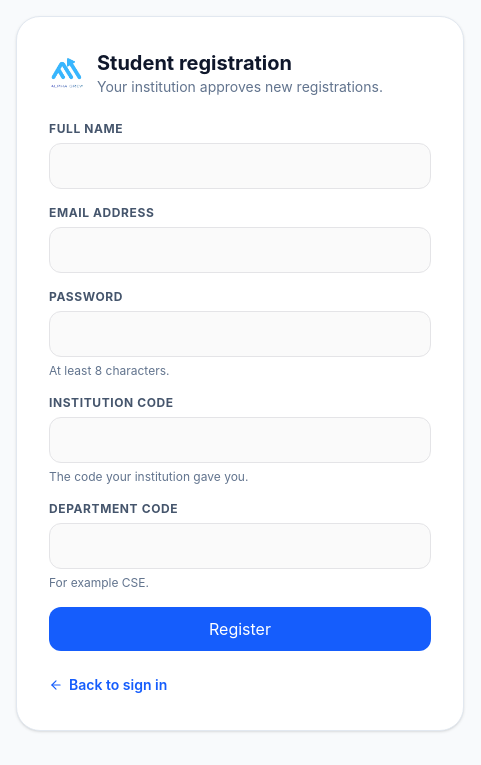
it: RegisterPage › shows validation errors next to the fields
Type "NOPE" into the field labelled "Institution code" at (240, 440), box left=49, top=417, right=431, bottom=463
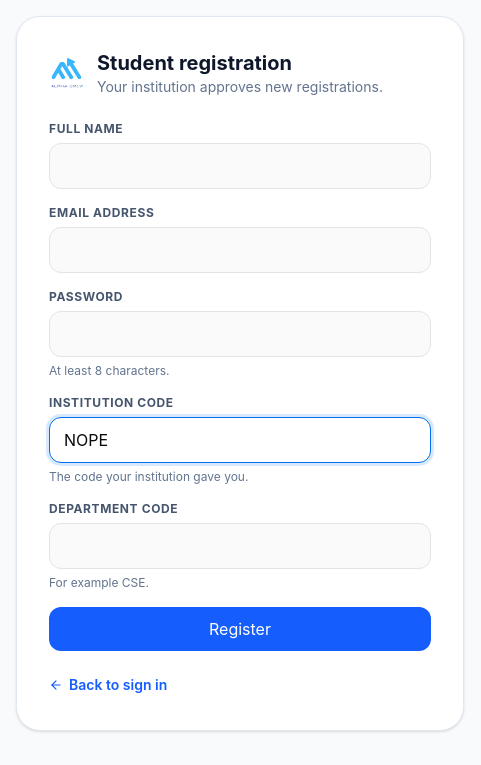
Click the button "Register" at (240, 629), box left=49, top=607, right=431, bottom=651
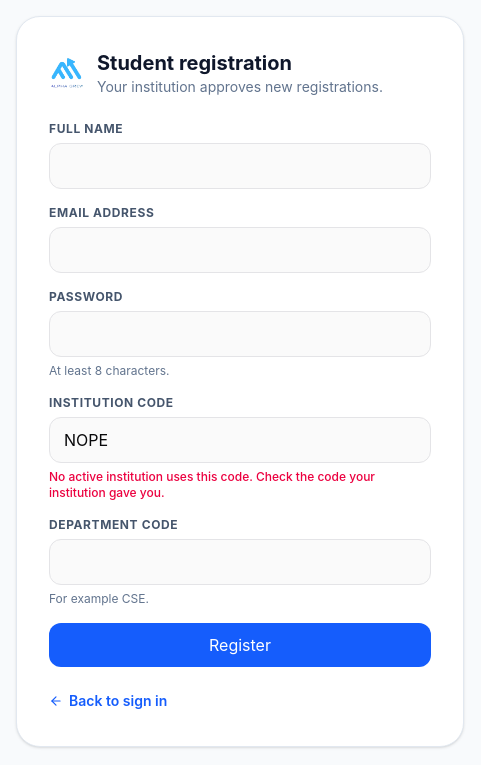
Check: the text "No active institution uses this code" is shown, box left=49, top=469, right=375, bottom=500
